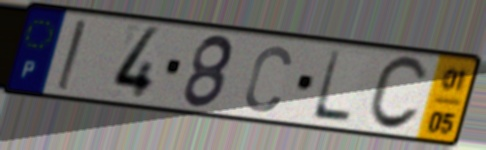4: (108, 23, 165, 103)
8: (181, 32, 234, 111)
C: (363, 53, 431, 134), (242, 42, 294, 115)
I: (53, 17, 89, 94)
L: (308, 47, 355, 126)
